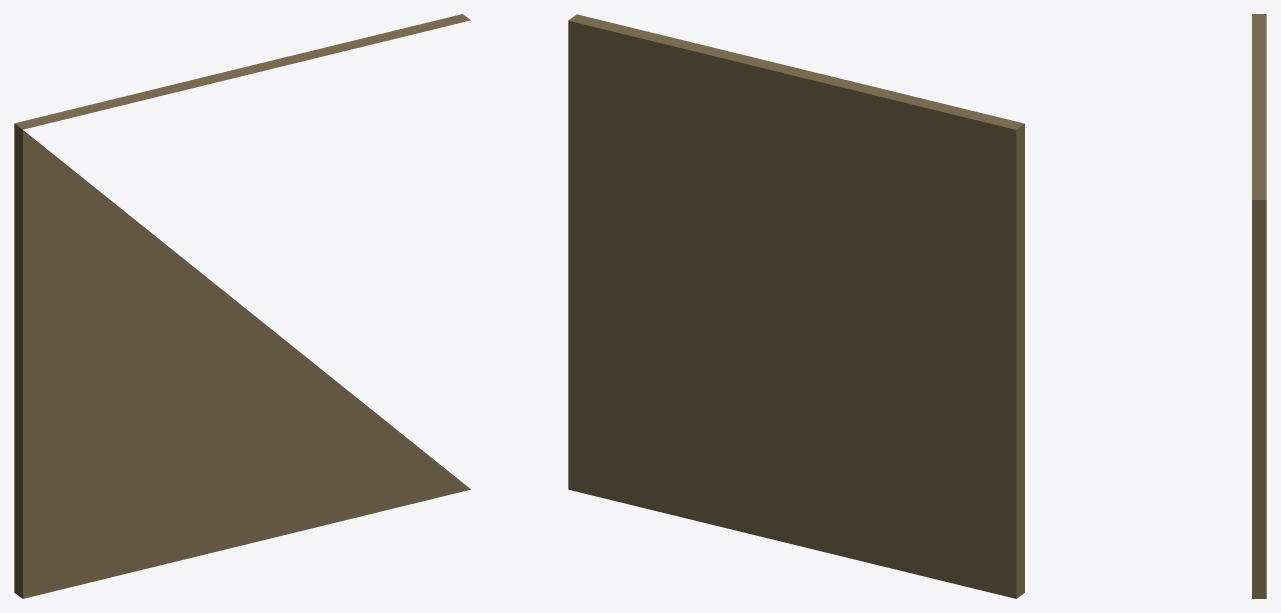
File: grass_short.glb
The picture shows the model from 3 angles, left to right: view 1: azimuth 30°, elevation 25°; view 2: azimuth 150°, elevation 25°; view 3: azimuth 270°, elevation 25°; orthographic projection. The views are drawn at different scales.
Visible parts, largest first — view 1: geometry_0; view 2: geometry_0; view 3: geometry_0.
Boxes of the visible parts, x1=… form: geometry_0: x1=14, y1=14, x2=470, y2=598; geometry_0: x1=568, y1=14, x2=1024, y2=598; geometry_0: x1=1252, y1=14, x2=1266, y2=598.
Bounding box in the file's own units: 0.3 × 0.3033 × 0.1213.
